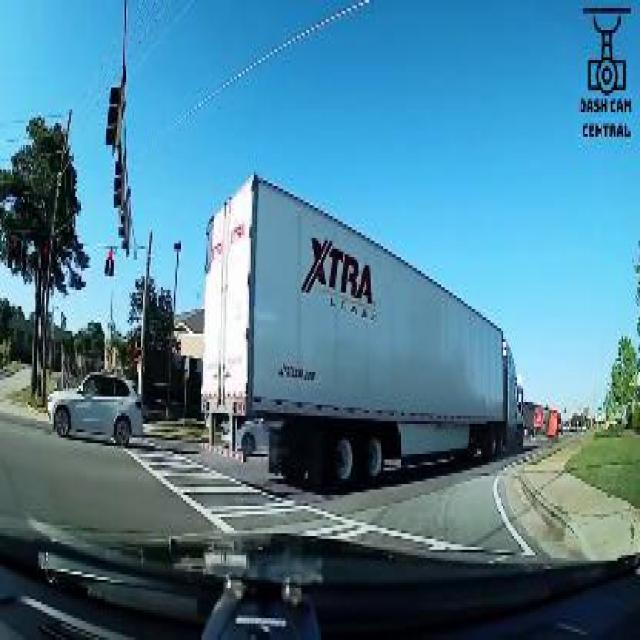accident: (518, 391, 562, 446)
